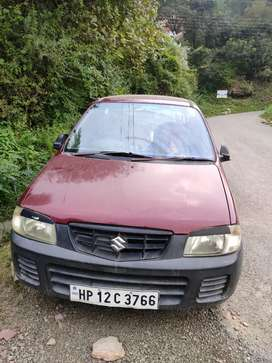HP12C3766: (70, 283, 158, 310)
